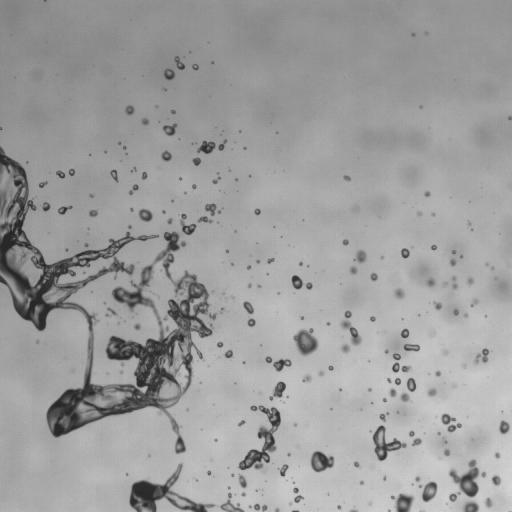droplet: (369, 425, 407, 461), (292, 328, 319, 356), (310, 450, 334, 472), (389, 493, 415, 511), (440, 413, 462, 433), (418, 480, 438, 502), (269, 380, 286, 403), (291, 275, 313, 289), (473, 348, 490, 365), (196, 140, 215, 154), (204, 203, 223, 216), (138, 208, 153, 223), (408, 430, 422, 446), (462, 500, 479, 511), (353, 249, 366, 263), (162, 123, 177, 135), (498, 420, 509, 435), (237, 473, 247, 489), (242, 301, 254, 314), (277, 464, 289, 477), (425, 277, 436, 290), (105, 307, 119, 317), (164, 68, 175, 80), (131, 110, 142, 121), (164, 140, 175, 151), (1, 171, 12, 182), (26, 175, 37, 186), (197, 178, 208, 189), (27, 182, 38, 193), (129, 213, 140, 224), (140, 221, 151, 232), (170, 222, 181, 233), (346, 244, 357, 255), (115, 250, 126, 261), (171, 268, 182, 279), (466, 286, 477, 297), (441, 303, 452, 314), (46, 309, 57, 320), (288, 346, 299, 357), (400, 352, 411, 363), (275, 370, 286, 381), (428, 376, 439, 387), (73, 378, 84, 389), (271, 397, 282, 408), (143, 404, 154, 415), (40, 424, 51, 435), (253, 438, 264, 449), (443, 458, 454, 469), (456, 464, 467, 475), (243, 467, 254, 478), (352, 468, 363, 479), (153, 474, 164, 485), (435, 487, 446, 498), (411, 488, 422, 499), (457, 492, 468, 503), (472, 493, 483, 504), (411, 496, 422, 507), (155, 497, 166, 508), (394, 288, 404, 300), (491, 474, 501, 486), (161, 150, 171, 161), (223, 349, 233, 360), (110, 169, 118, 182), (124, 105, 134, 115), (379, 412, 389, 422), (432, 301, 442, 310), (400, 328, 409, 338), (302, 373, 311, 383), (388, 387, 397, 397), (427, 387, 437, 396), (484, 497, 492, 508), (192, 157, 201, 166), (470, 298, 479, 307), (3, 148, 12, 157), (132, 174, 141, 183), (33, 198, 42, 207), (49, 203, 58, 212), (48, 206, 57, 215), (24, 208, 33, 217), (195, 221, 204, 230), (177, 232, 186, 241), (259, 261, 268, 270), (132, 273, 141, 282), (456, 276, 465, 285), (348, 316, 357, 325), (189, 330, 198, 339), (405, 335, 414, 344), (288, 340, 297, 349), (308, 350, 317, 359), (399, 372, 408, 381), (398, 382, 407, 391), (107, 413, 116, 422), (403, 435, 412, 444), (475, 461, 484, 470), (473, 475, 482, 484), (230, 478, 239, 487), (450, 482, 459, 491), (232, 483, 241, 492), (123, 486, 132, 495), (193, 495, 202, 504), (387, 500, 396, 509), (88, 209, 98, 217), (401, 248, 409, 258), (247, 317, 255, 327), (56, 170, 65, 178), (38, 180, 47, 188), (42, 202, 50, 211), (370, 272, 378, 281), (466, 277, 474, 286), (280, 505, 291, 511), (358, 505, 369, 511), (407, 505, 418, 511), (477, 505, 488, 511), (349, 266, 357, 274), (428, 329, 436, 337), (353, 461, 361, 469), (394, 377, 401, 386), (348, 505, 358, 511), (141, 117, 148, 125), (68, 168, 75, 176), (449, 258, 456, 266), (133, 323, 141, 330), (443, 448, 450, 456), (141, 171, 147, 180), (237, 420, 246, 426), (352, 205, 359, 212), (441, 348, 448, 355), (170, 63, 177, 70), (184, 63, 191, 70), (173, 67, 180, 74), (211, 147, 218, 154), (198, 151, 205, 158), (11, 185, 18, 192), (35, 203, 42, 210), (203, 210, 210, 217), (422, 210, 429, 217), (161, 213, 168, 220), (183, 218, 190, 225), (29, 238, 36, 245), (161, 239, 168, 246), (171, 249, 178, 256), (452, 253, 459, 260), (364, 254, 371, 261), (44, 257, 51, 264), (248, 258, 255, 265), (142, 259, 149, 266), (352, 260, 359, 267), (167, 264, 174, 271), (422, 273, 429, 280), (195, 276, 202, 283), (434, 278, 441, 285), (394, 281, 401, 288), (204, 283, 211, 290), (422, 284, 429, 291), (401, 286, 408, 293), (388, 289, 395, 296), (392, 296, 399, 303), (6, 299, 13, 306), (7, 303, 14, 310), (207, 306, 214, 313), (243, 312, 250, 319), (14, 313, 21, 320), (25, 319, 32, 326), (291, 327, 298, 334), (356, 328, 363, 335), (344, 330, 351, 337), (316, 339, 323, 346), (335, 341, 342, 348), (348, 343, 355, 350), (220, 345, 227, 352), (189, 348, 196, 355), (398, 348, 405, 355), (81, 350, 88, 357), (271, 354, 278, 361), (398, 358, 405, 365), (189, 360, 196, 367), (396, 370, 403, 377), (310, 371, 317, 378), (389, 371, 396, 378), (400, 377, 407, 384), (388, 381, 395, 388), (51, 394, 58, 401), (179, 394, 186, 401), (264, 401, 271, 408), (123, 411, 130, 418), (165, 422, 172, 429), (264, 422, 271, 429), (69, 429, 76, 436), (59, 433, 66, 440), (397, 435, 404, 442), (384, 436, 391, 443), (182, 437, 189, 444), (323, 449, 330, 456), (304, 455, 311, 462), (332, 458, 339, 465), (168, 466, 175, 473), (177, 473, 184, 480), (485, 473, 492, 480), (133, 475, 140, 482), (499, 476, 506, 483), (420, 478, 427, 485), (169, 484, 176, 491), (403, 489, 410, 496), (220, 495, 227, 502), (230, 497, 237, 504), (292, 502, 299, 509), (343, 175, 351, 181), (266, 257, 274, 263), (318, 369, 324, 377), (130, 166, 137, 172), (424, 190, 430, 197), (254, 208, 260, 215), (416, 211, 423, 217), (166, 218, 173, 224), (430, 244, 437, 250), (216, 341, 223, 347), (435, 370, 441, 377), (192, 64, 198, 70), (342, 239, 348, 245), (453, 309, 459, 315), (494, 452, 500, 458), (414, 476, 420, 482), (0, 215, 4, 224), (367, 500, 372, 507), (386, 377, 391, 383), (396, 483, 401, 489), (240, 491, 246, 496), (467, 220, 471, 227), (507, 427, 511, 434), (128, 507, 135, 511), (205, 507, 212, 511), (390, 507, 397, 511), (170, 109, 175, 114), (192, 184, 197, 189), (89, 193, 94, 198), (84, 242, 89, 247), (451, 249, 456, 254), (370, 316, 375, 321), (461, 363, 466, 368), (328, 365, 333, 370), (118, 369, 123, 374), (452, 383, 457, 388), (382, 397, 387, 402), (206, 470, 211, 475), (359, 480, 364, 485), (179, 57, 184, 62), (160, 75, 165, 80), (170, 77, 175, 82), (164, 78, 169, 83), (127, 100, 132, 105), (132, 104, 137, 109), (120, 105, 125, 110), (121, 111, 126, 116), (128, 113, 133, 118), (145, 114, 150, 119), (147, 120, 152, 125), (167, 121, 172, 126), (142, 124, 147, 129), (174, 126, 179, 131), (160, 130, 165, 135), (169, 134, 174, 139), (205, 137, 210, 142), (214, 141, 219, 146), (196, 142, 201, 147), (223, 142, 228, 147), (213, 145, 218, 150), (159, 147, 164, 152), (170, 155, 175, 160), (161, 159, 166, 164), (189, 161, 194, 166), (20, 162, 25, 167), (24, 169, 29, 174), (63, 169, 68, 174), (137, 171, 142, 176), (64, 172, 69, 177), (25, 174, 30, 179), (212, 174, 217, 179), (39, 177, 44, 182), (343, 179, 348, 184), (9, 181, 14, 186), (423, 186, 428, 191), (132, 189, 137, 194), (429, 190, 434, 195), (419, 191, 424, 196), (26, 195, 31, 200), (426, 195, 431, 200), (207, 199, 212, 204), (63, 202, 68, 207), (200, 203, 205, 208), (138, 204, 143, 209), (143, 204, 148, 209), (91, 205, 96, 210), (46, 208, 51, 213), (65, 208, 70, 213), (96, 208, 101, 213), (133, 208, 138, 213), (149, 208, 154, 213), (84, 210, 89, 215), (90, 215, 95, 220), (150, 216, 155, 221), (140, 219, 145, 224), (147, 219, 152, 224), (210, 221, 215, 226), (20, 225, 25, 230), (167, 228, 172, 233), (144, 230, 149, 235), (129, 231, 134, 236), (190, 231, 195, 236), (25, 232, 30, 237), (120, 232, 125, 237), (158, 233, 163, 238), (341, 234, 346, 239), (113, 235, 118, 240), (145, 238, 150, 243), (347, 238, 352, 243), (176, 239, 181, 244), (123, 243, 128, 248), (86, 245, 91, 250), (92, 245, 97, 250), (178, 245, 183, 250), (81, 246, 86, 251), (362, 247, 367, 252), (39, 248, 44, 253), (75, 248, 80, 253), (396, 251, 401, 256), (151, 253, 156, 258), (405, 256, 410, 261), (445, 257, 450, 262), (302, 260, 307, 265), (445, 261, 450, 266), (454, 262, 459, 267), (301, 263, 306, 268), (485, 265, 490, 270), (345, 266, 350, 271), (187, 269, 192, 274), (355, 270, 360, 275), (179, 271, 184, 276), (469, 272, 474, 277), (297, 273, 302, 278), (351, 273, 356, 278), (376, 275, 381, 280), (366, 277, 371, 282), (472, 277, 477, 282), (301, 279, 306, 284), (455, 279, 460, 284), (287, 280, 292, 285), (447, 280, 452, 285), (251, 282, 256, 287), (470, 283, 475, 288), (300, 284, 305, 289), (290, 286, 295, 291), (295, 288, 300, 293), (452, 288, 457, 293), (224, 291, 229, 296), (7, 296, 12, 301), (227, 297, 232, 302), (246, 297, 251, 302), (435, 297, 440, 302), (206, 298, 211, 303), (467, 298, 472, 303), (251, 303, 256, 308), (430, 304, 435, 309), (224, 305, 229, 310), (439, 306, 444, 311), (241, 307, 246, 312), (448, 310, 453, 315), (196, 312, 201, 317), (457, 312, 462, 317), (248, 313, 253, 318), (340, 315, 345, 320), (347, 316, 352, 321), (83, 321, 88, 326), (350, 322, 355, 327), (246, 325, 251, 330), (396, 328, 401, 333), (310, 331, 315, 336), (203, 335, 208, 340), (82, 344, 87, 349), (408, 349, 413, 354), (231, 351, 236, 356), (340, 351, 345, 356), (387, 351, 392, 356), (486, 353, 491, 358), (470, 354, 475, 359), (281, 355, 286, 360), (323, 366, 328, 371), (430, 370, 435, 375), (440, 370, 445, 375), (436, 375, 441, 380), (190, 376, 195, 381), (390, 376, 395, 381), (282, 378, 287, 383), (414, 379, 419, 384), (271, 381, 276, 386), (303, 381, 308, 386), (414, 386, 419, 391), (404, 388, 409, 393), (281, 390, 286, 395), (433, 393, 438, 398), (385, 394, 390, 399), (272, 395, 277, 400), (429, 395, 434, 400), (403, 400, 408, 405), (166, 407, 171, 412), (255, 408, 260, 413), (131, 409, 136, 414), (161, 412, 166, 417), (448, 412, 453, 417), (279, 414, 284, 419), (436, 416, 441, 421), (175, 418, 180, 423), (94, 419, 99, 424), (378, 420, 383, 425), (495, 421, 500, 426), (240, 423, 245, 428), (371, 426, 376, 431), (253, 428, 258, 433), (368, 432, 373, 437), (413, 433, 418, 438), (172, 435, 177, 440), (410, 435, 415, 440), (273, 440, 278, 445), (370, 443, 375, 448), (443, 443, 448, 448), (413, 444, 418, 449), (256, 446, 261, 451), (398, 446, 403, 451), (493, 447, 498, 452), (449, 449, 454, 454), (242, 450, 247, 455), (386, 450, 391, 455), (178, 451, 183, 456), (439, 451, 444, 456), (499, 452, 504, 457), (490, 454, 495, 459), (239, 455, 244, 460), (353, 456, 358, 461), (466, 456, 471, 461), (357, 459, 362, 464), (474, 462, 479, 467), (277, 463, 282, 468), (249, 465, 254, 470), (325, 466, 330, 471), (180, 467, 185, 472), (309, 468, 314, 473), (477, 468, 482, 473), (284, 469, 289, 474), (493, 470, 498, 475), (416, 471, 421, 476), (166, 472, 171, 477), (498, 473, 503, 478), (233, 474, 238, 479), (447, 475, 452, 480), (410, 477, 415, 482), (431, 477, 436, 482), (245, 479, 250, 484), (488, 480, 493, 485), (413, 481, 418, 486), (435, 481, 440, 486), (294, 482, 299, 487), (289, 483, 294, 488), (494, 484, 499, 489), (239, 486, 244, 491), (229, 488, 234, 493), (179, 491, 184, 496), (292, 492, 297, 497), (393, 492, 398, 497), (444, 496, 449, 501), (428, 498, 433, 503), (490, 498, 495, 503), (258, 501, 263, 506), (239, 504, 244, 509), (348, 504, 353, 509), (278, 506, 283, 511), (443, 281, 447, 287), (382, 475, 386, 481), (274, 507, 280, 511), (161, 209, 165, 214), (298, 261, 302, 266), (246, 265, 251, 269), (247, 283, 251, 288), (211, 289, 215, 294), (230, 294, 234, 299), (463, 313, 468, 317), (367, 387, 372, 391), (293, 422, 297, 427), (286, 452, 291, 456), (337, 505, 342, 509), (424, 31, 428, 35), (411, 32, 415, 36), (431, 212, 435, 216), (380, 255, 384, 259), (459, 254, 463, 258), (256, 259, 260, 263), (230, 262, 234, 266), (485, 262, 489, 266), (490, 266, 494, 270), (257, 283, 261, 287), (384, 349, 388, 353), (125, 472, 129, 476), (162, 88, 167, 91), (130, 207, 133, 212), (128, 224, 131, 229), (220, 292, 225, 295), (299, 316, 304, 319), (185, 508, 190, 511), (250, 508, 255, 511), (257, 508, 262, 511), (334, 508, 339, 511), (154, 105, 158, 108), (419, 105, 423, 108), (508, 116, 511, 120), (238, 129, 241, 133), (118, 141, 121, 145), (123, 145, 126, 149), (178, 177, 182, 180), (234, 178, 238, 181), (234, 229, 237, 233), (65, 248, 68, 252), (225, 249, 228, 253), (494, 276, 497, 280), (277, 291, 280, 295), (484, 314, 487, 318), (326, 322, 330, 325), (36, 339, 39, 343), (338, 388, 342, 391), (258, 390, 261, 394), (286, 394, 289, 398), (437, 431, 440, 435), (214, 438, 217, 442), (230, 473, 234, 476), (445, 502, 448, 506), (0, 281, 2, 286), (275, 131, 278, 134), (243, 146, 246, 149), (104, 150, 107, 153), (88, 153, 91, 156), (228, 168, 231, 171), (248, 174, 251, 177), (184, 191, 187, 194), (171, 199, 174, 202), (470, 228, 473, 231), (410, 245, 413, 248), (249, 254, 252, 257), (306, 264, 309, 267), (82, 271, 85, 274), (266, 272, 269, 275), (103, 301, 106, 304), (367, 359, 370, 362), (242, 361, 245, 364), (106, 372, 109, 375), (370, 401, 373, 404), (329, 407, 332, 410), (360, 408, 363, 411), (292, 481, 295, 484), (227, 486, 230, 489), (326, 492, 329, 495), (43, 1, 46, 4), (411, 29, 414, 32), (414, 32, 417, 35), (411, 35, 414, 38), (175, 52, 178, 55), (210, 57, 213, 60), (193, 60, 196, 63), (207, 60, 210, 63), (213, 60, 216, 63), (210, 63, 213, 66), (197, 67, 200, 70), (182, 68, 185, 71), (193, 69, 196, 72), (166, 88, 169, 91), (161, 89, 164, 92), (173, 107, 176, 110), (175, 110, 178, 113), (171, 113, 174, 116), (504, 116, 507, 119), (240, 128, 243, 131), (235, 130, 238, 133), (240, 131, 243, 134), (115, 139, 118, 142), (242, 143, 245, 146), (119, 144, 122, 147), (125, 144, 128, 147), (105, 147, 108, 150), (123, 149, 126, 152), (167, 149, 170, 152), (242, 149, 245, 152), (100, 150, 103, 153), (106, 151, 109, 154), (85, 152, 88, 155), (90, 152, 93, 155), (127, 152, 130, 155), (88, 155, 91, 158), (198, 162, 201, 165), (132, 163, 135, 166), (71, 165, 74, 168), (112, 166, 115, 169), (129, 166, 132, 169), (135, 166, 138, 169), (229, 166, 232, 169), (109, 167, 112, 170), (225, 167, 228, 170), (216, 168, 219, 171), (127, 170, 130, 173), (132, 170, 135, 173), (116, 171, 119, 174), (227, 171, 230, 174), (73, 172, 76, 175), (107, 172, 110, 175), (345, 172, 348, 175), (146, 173, 149, 176), (218, 173, 221, 176), (250, 173, 253, 176), (55, 174, 58, 177), (70, 175, 73, 178), (236, 175, 239, 178), (175, 176, 178, 179), (181, 176, 184, 179), (246, 176, 249, 179), (340, 176, 343, 179), (58, 177, 61, 180), (237, 178, 240, 181), (112, 179, 115, 182), (177, 179, 180, 182), (180, 179, 183, 182), (217, 179, 220, 182), (233, 180, 236, 183), (194, 181, 197, 184), (212, 183, 215, 186), (43, 184, 46, 187), (137, 184, 140, 187), (188, 184, 191, 187), (37, 186, 40, 189), (129, 186, 132, 189), (195, 186, 198, 189), (90, 191, 93, 194), (180, 191, 183, 194), (86, 192, 89, 195), (126, 193, 129, 196), (88, 196, 91, 199), (170, 196, 173, 199), (173, 198, 176, 201), (168, 200, 171, 203), (32, 201, 35, 204), (129, 204, 132, 207), (256, 205, 259, 208), (127, 208, 130, 211), (164, 208, 167, 211), (259, 208, 262, 211), (220, 209, 223, 212), (431, 209, 434, 212), (182, 210, 185, 213), (251, 210, 254, 213), (160, 212, 163, 215), (258, 212, 261, 215), (434, 212, 437, 215), (59, 213, 62, 216), (253, 213, 256, 216), (178, 215, 181, 218), (429, 215, 432, 218), (303, 218, 306, 221), (469, 219, 472, 222), (464, 220, 467, 223), (272, 222, 275, 225), (216, 223, 219, 226), (269, 224, 272, 227), (468, 225, 471, 228), (272, 227, 275, 230), (84, 228, 87, 231), (126, 228, 129, 231), (236, 228, 239, 231), (230, 229, 233, 232), (472, 229, 475, 232), (469, 230, 472, 233), (154, 231, 157, 234), (279, 232, 282, 235), (282, 234, 285, 237), (279, 237, 282, 240), (138, 239, 141, 242), (339, 240, 342, 243), (429, 242, 432, 245), (346, 243, 349, 246), (435, 243, 438, 246), (225, 246, 228, 249), (451, 246, 454, 249), (407, 247, 410, 250), (222, 249, 225, 252), (228, 249, 231, 252), (430, 249, 433, 252), (448, 250, 451, 253), (225, 252, 228, 255), (408, 252, 411, 255), (462, 253, 465, 256), (377, 254, 380, 257), (256, 256, 259, 259), (400, 256, 403, 259), (264, 258, 267, 261), (273, 258, 276, 261), (381, 258, 384, 261), (232, 260, 235, 263), (296, 260, 299, 263), (270, 261, 273, 264), (227, 262, 230, 265), (244, 263, 247, 266), (488, 263, 491, 266), (250, 265, 253, 268), (308, 265, 311, 268), (493, 265, 496, 268), (248, 268, 251, 271), (266, 269, 269, 272), (268, 272, 271, 275), (258, 281, 261, 284), (244, 283, 247, 286), (311, 285, 314, 288), (248, 287, 251, 290), (257, 287, 260, 290), (276, 288, 279, 291), (273, 291, 276, 294), (279, 292, 282, 295), (276, 294, 279, 297), (467, 303, 470, 306), (473, 304, 476, 307), (217, 307, 220, 310), (414, 312, 417, 315), (299, 313, 302, 316), (369, 313, 372, 316), (372, 313, 375, 316), (467, 313, 470, 316), (481, 313, 484, 316), (401, 314, 404, 317), (303, 315, 306, 318), (486, 315, 489, 318), (297, 316, 300, 319), (366, 316, 369, 319), (325, 319, 328, 322), (369, 320, 372, 323), (372, 320, 375, 323), (254, 321, 257, 324), (324, 324, 327, 327), (328, 324, 331, 327), (251, 325, 254, 328), (403, 325, 406, 328), (408, 332, 411, 335), (259, 340, 262, 343), (213, 342, 216, 345), (256, 343, 259, 346), (482, 345, 485, 348), (216, 346, 219, 349), (258, 346, 261, 349), (382, 347, 385, 350), (487, 347, 490, 350), (382, 352, 385, 355), (201, 353, 204, 356), (267, 353, 270, 356), (368, 356, 371, 359), (226, 357, 229, 360), (241, 357, 244, 360), (290, 359, 293, 362), (370, 359, 373, 362), (239, 360, 242, 363), (244, 360, 247, 363), (364, 360, 367, 363), (329, 362, 332, 365), (241, 363, 244, 366), (290, 363, 293, 366), (325, 364, 328, 367), (332, 364, 335, 367), (389, 364, 392, 367), (272, 366, 275, 369), (389, 368, 392, 371), (434, 368, 437, 371), (330, 369, 333, 372), (320, 375, 323, 378), (299, 377, 302, 380), (385, 380, 388, 383), (188, 384, 191, 387), (367, 384, 370, 387), (339, 385, 342, 388), (364, 387, 367, 390), (335, 388, 338, 391), (371, 388, 374, 391), (339, 390, 342, 393), (368, 391, 371, 394), (370, 398, 373, 401), (379, 398, 382, 401), (383, 401, 386, 404), (369, 403, 372, 406), (329, 404, 332, 407), (188, 407, 191, 410), (328, 409, 331, 412), (387, 409, 390, 412), (251, 410, 254, 413), (382, 411, 385, 414), (376, 414, 379, 417), (384, 415, 387, 418), (242, 417, 245, 420), (237, 419, 240, 422), (295, 420, 298, 423), (290, 423, 293, 426), (296, 423, 299, 426), (293, 426, 296, 429), (213, 435, 216, 438), (216, 436, 219, 439), (396, 437, 399, 440), (441, 439, 444, 442), (216, 440, 219, 443), (213, 441, 216, 444), (287, 449, 290, 452), (290, 452, 293, 455), (285, 461, 288, 464), (235, 463, 238, 466), (352, 465, 355, 468), (207, 467, 210, 470), (204, 468, 207, 471), (210, 471, 213, 474), (204, 472, 207, 475), (277, 472, 280, 475), (122, 473, 125, 476), (228, 474, 231, 477), (195, 475, 198, 478), (280, 475, 283, 478), (380, 475, 383, 478), (385, 476, 388, 479), (358, 477, 361, 480), (192, 479, 195, 482), (356, 480, 359, 483), (363, 480, 366, 483), (195, 481, 198, 484), (360, 484, 363, 487), (255, 486, 258, 489), (297, 486, 300, 489), (227, 489, 230, 492), (257, 489, 260, 492), (328, 491, 331, 494), (326, 495, 329, 498), (299, 498, 302, 501), (338, 502, 341, 505), (233, 503, 236, 506), (371, 503, 374, 506), (354, 506, 357, 509), (293, 507, 296, 510), (210, 61, 214, 63), (189, 50, 191, 53), (0, 126, 2, 129), (125, 152, 127, 155), (216, 221, 219, 223), (87, 227, 89, 230), (401, 317, 403, 320), (123, 320, 126, 322), (259, 344, 262, 346), (427, 373, 430, 375), (199, 381, 202, 383), (186, 408, 188, 411), (396, 411, 399, 413), (501, 410, 503, 413), (148, 454, 150, 457), (255, 489, 258, 491), (509, 113, 511, 116), (509, 119, 511, 122), (509, 507, 511, 510), (264, 509, 267, 511), (384, 509, 387, 511), (178, 138, 180, 140), (26, 161, 28, 163), (302, 219, 304, 221), (273, 225, 275, 227), (280, 235, 282, 237), (77, 240, 79, 242), (418, 314, 420, 316), (234, 382, 236, 384), (435, 416, 437, 418), (423, 432, 425, 434), (285, 479, 287, 481), (411, 483, 413, 485), (234, 493, 236, 495), (46, 0, 49, 1), (0, 123, 1, 126), (0, 129, 1, 132), (191, 143, 193, 144), (201, 428, 202, 430), (227, 467, 229, 468), (265, 480, 266, 482), (444, 510, 445, 511)
ligament: (237, 405, 280, 473), (339, 310, 362, 353), (263, 356, 291, 371), (174, 56, 185, 70), (248, 503, 267, 511), (57, 205, 72, 214), (197, 215, 213, 223), (403, 344, 420, 351), (128, 184, 138, 195), (212, 172, 221, 184), (451, 275, 458, 290), (218, 139, 227, 150), (117, 317, 121, 325), (442, 437, 447, 443), (192, 477, 198, 481), (291, 509, 299, 511), (419, 509, 425, 511), (382, 330, 386, 332), (387, 509, 391, 511), (43, 0, 46, 1), (508, 510, 511, 511), (120, 160, 122, 161), (256, 242, 258, 243)
